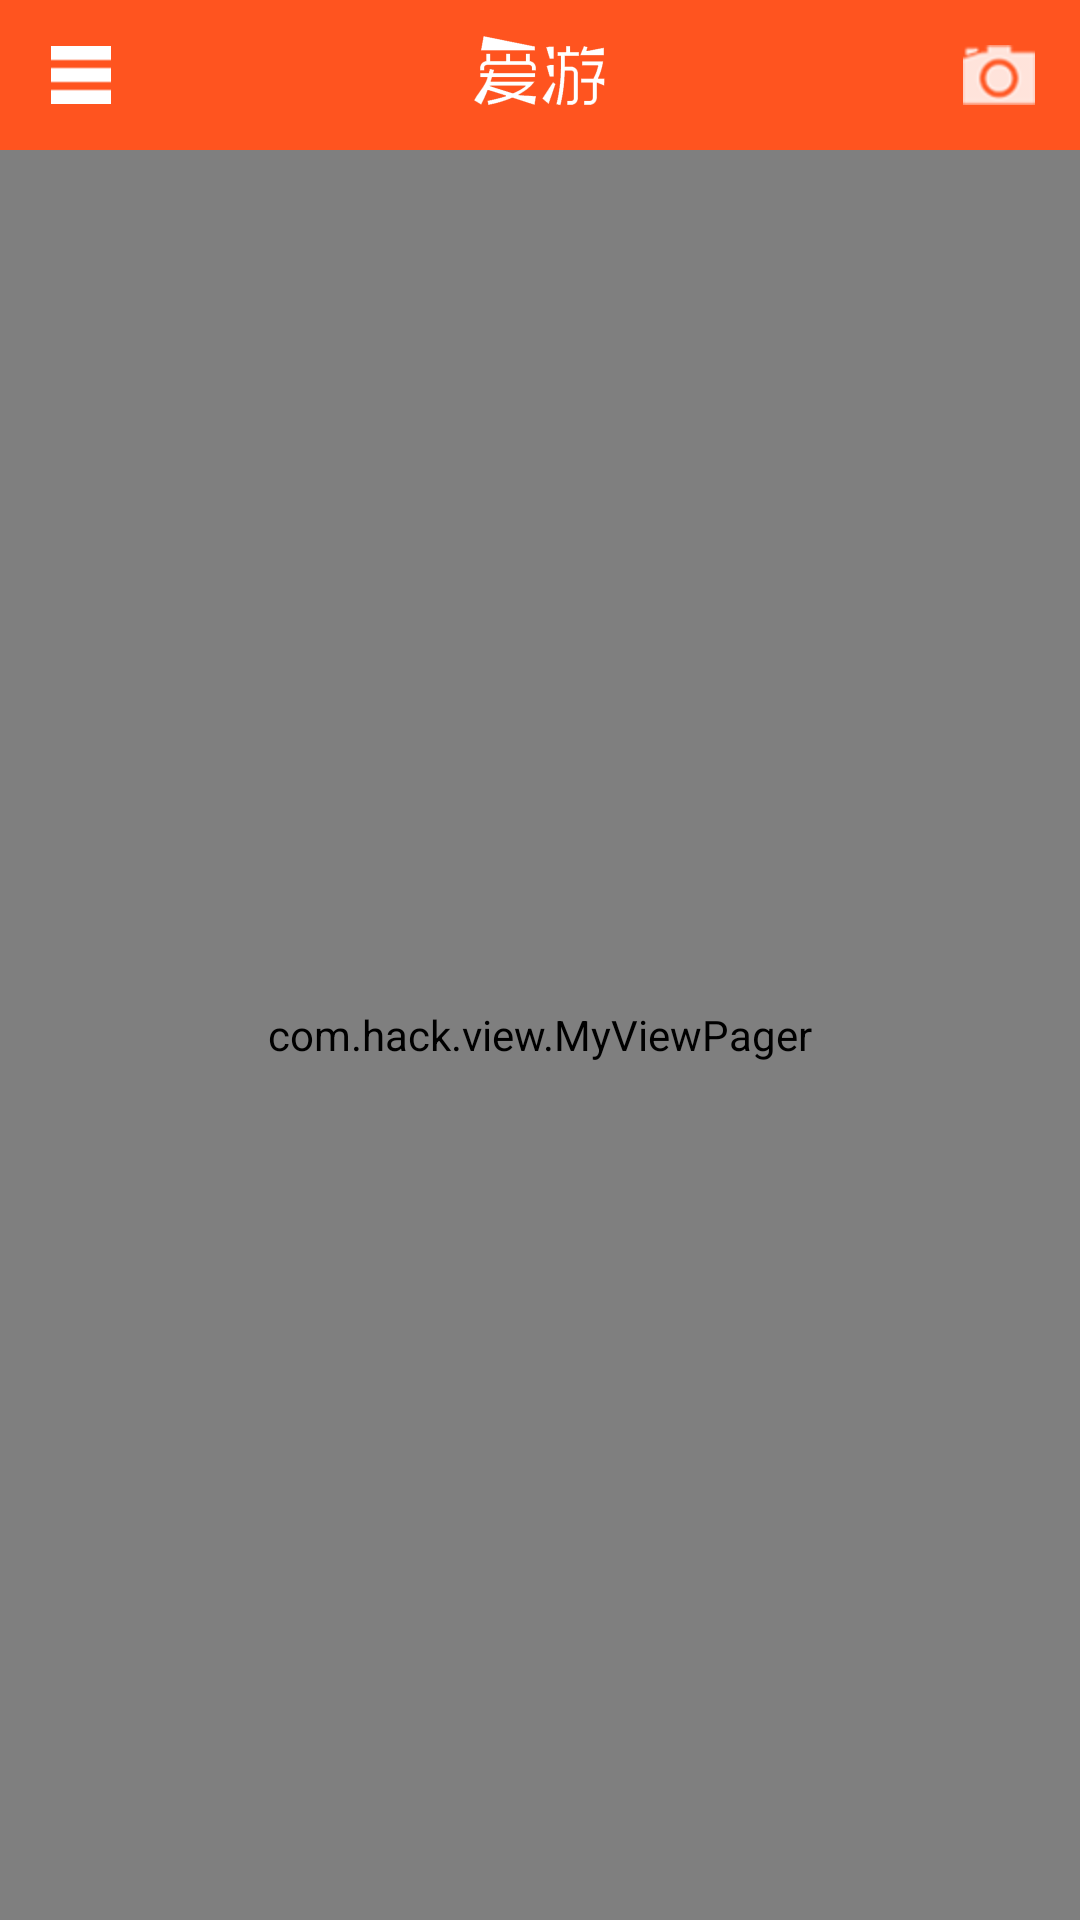

Icon click points for this 1080*1920 phone screenshot, format (x=x, y=y):
menubar: (x=81, y=75)
takephotobar: (x=999, y=75)
